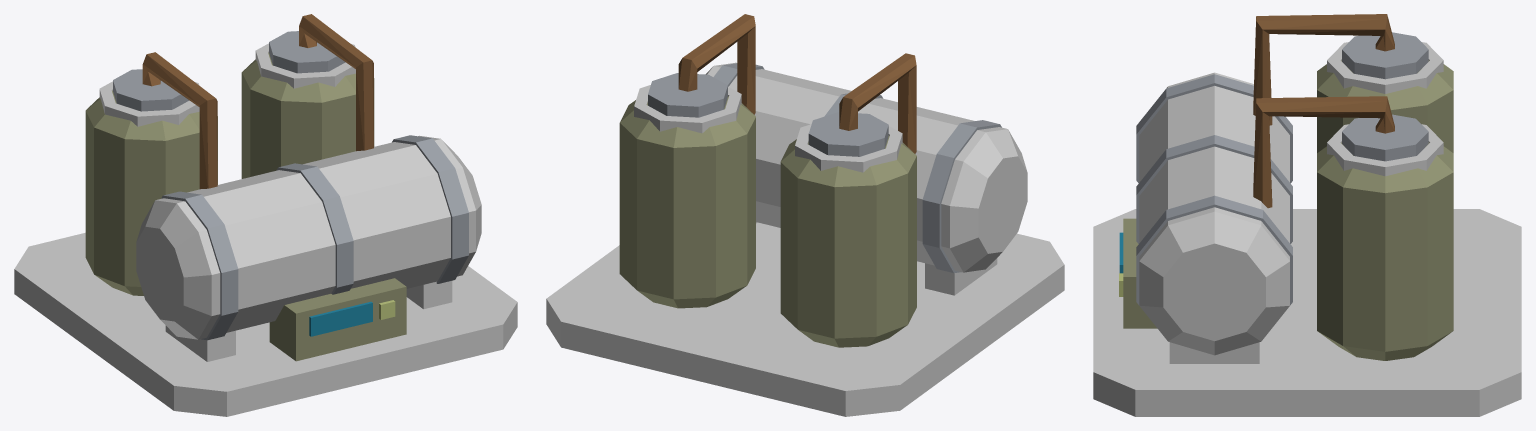
The model's file is defoliator.obj.
The picture shows the model from 3 angles, left to right: view 1: azimuth 30°, elevation 25°; view 2: azimuth 150°, elevation 25°; view 3: azimuth 270°, elevation 25°; orthographic projection. The views are drawn at different scales.
Visible parts, largest first — view 1: defoliator; view 2: defoliator; view 3: defoliator.
Part boxes in pixels (<box>): defoliator: <box>14,14,517,416</box>; defoliator: <box>546,14,1064,416</box>; defoliator: <box>1093,14,1521,416</box>.
Bounding box in the file's own units: 2.86 × 1.98 × 2.86.
